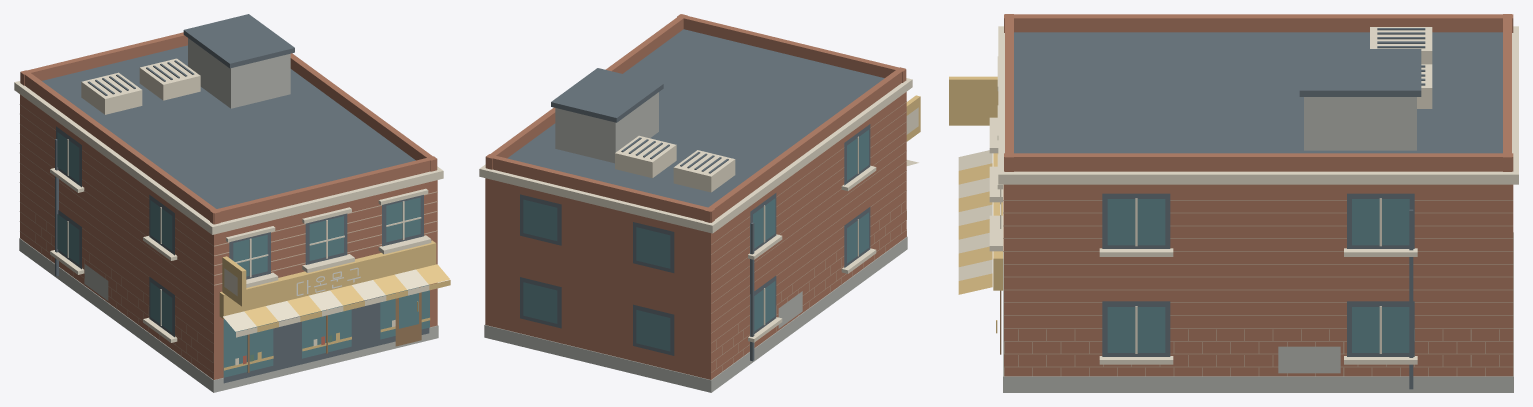
Rendered from q01-stationer.glb.
3 renders of one model, left to right at view 1: azimuth 30°, elevation 25°; view 2: azimuth 150°, elevation 25°; view 3: azimuth 270°, elevation 25°, orthographic. The views are drawn at different scales.
Size of the model in its own units: 6.34 by 5.51 by 10.07.
